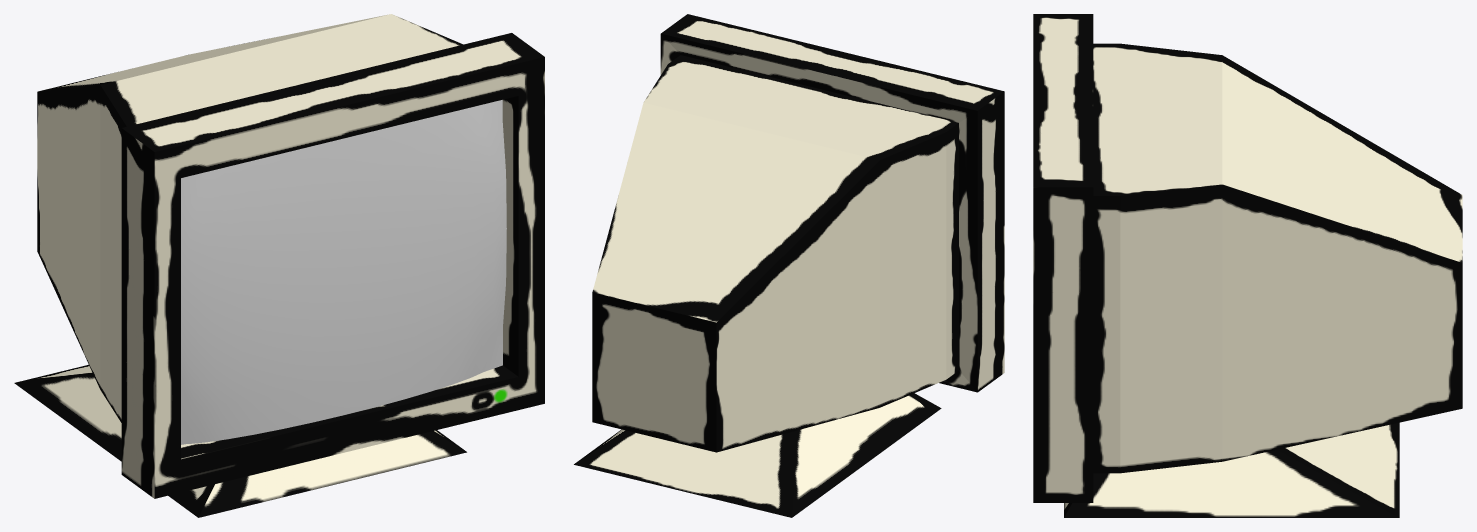
Rendered from Monitor.fbx.
3 views of the same model, side by side, from view 1: azimuth 30°, elevation 25°; view 2: azimuth 150°, elevation 25°; view 3: azimuth 270°, elevation 25° (orthographic). The views are drawn at different scales.
Parts seen in each view (by area): view 1: Monitor, Screen; view 2: Monitor; view 3: Monitor.
Boxes of the visible parts, x1,y1,x2,y2 form: Monitor: (14,14,544,517); Screen: (181,100,506,444); Monitor: (574,14,1004,517); Monitor: (1033,14,1462,517).
Bounding box in the file's own units: 2.68 × 2.81 × 2.58.
Materials: 2 (1 with a texture image).
